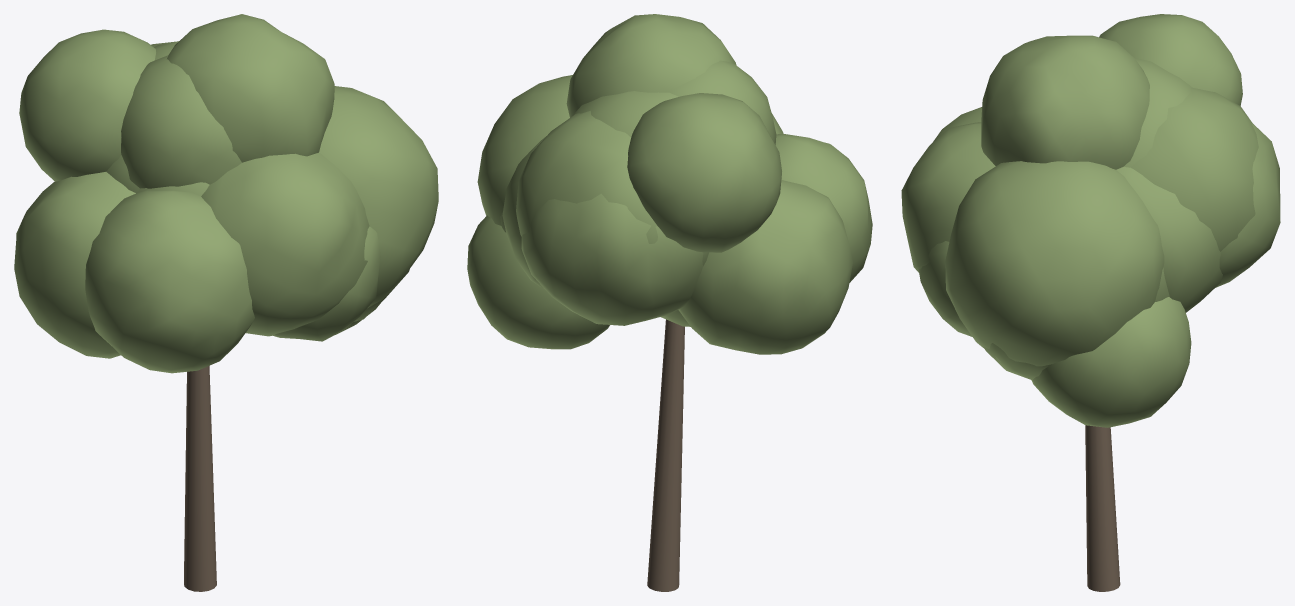
Rendered from NPR_07_0011__MOD__VegetationElements__Trees__AshTree__Var-01__.glb.
3 views of the same model, side by side, from view 1: azimuth 30°, elevation 25°; view 2: azimuth 150°, elevation 25°; view 3: azimuth 270°, elevation 25° (orthographic). The views are drawn at different scales.
Parts seen in each view (by area): view 1: NPR_07_0011__MOD__VegetationElements__Trees__AshTree__Var-01; view 2: NPR_07_0011__MOD__VegetationElements__Trees__AshTree__Var-01; view 3: NPR_07_0011__MOD__VegetationElements__Trees__AshTree__Var-01.
Boxes of the visible parts, left/top/right/bottom form: NPR_07_0011__MOD__VegetationElements__Trees__AshTree__Var-01: left=14, top=14, right=438, bottom=591; NPR_07_0011__MOD__VegetationElements__Trees__AshTree__Var-01: left=467, top=14, right=872, bottom=591; NPR_07_0011__MOD__VegetationElements__Trees__AshTree__Var-01: left=901, top=14, right=1280, bottom=591.
Size of the model in its own units: 6.43 by 9.24 by 5.67.
